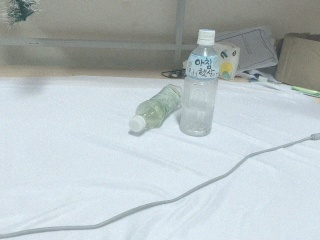bottle: (178, 27, 219, 138), (129, 81, 184, 137)
box: (275, 33, 320, 106)
